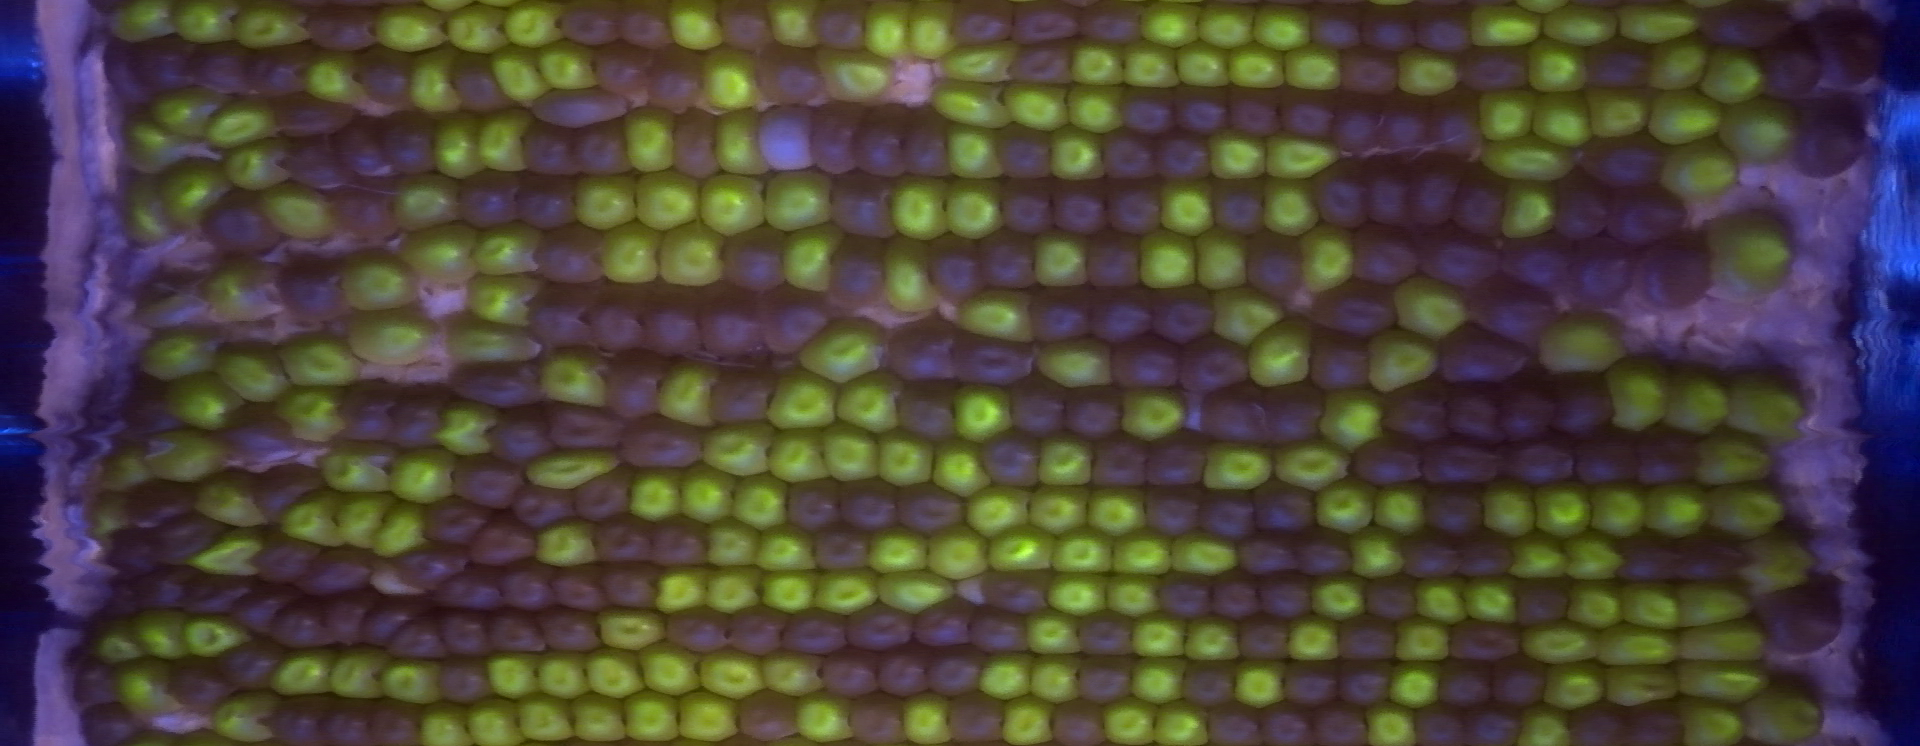fluorescent: (204, 250, 290, 334), (1708, 208, 1794, 289), (1540, 314, 1630, 372), (129, 269, 211, 332), (801, 318, 884, 377), (1723, 94, 1798, 159), (1251, 310, 1313, 388), (1393, 273, 1467, 338), (1365, 326, 1439, 390), (1727, 371, 1800, 435), (1604, 356, 1667, 431), (1662, 142, 1738, 200), (782, 220, 842, 293), (656, 358, 718, 426), (353, 311, 436, 361), (811, 44, 884, 100), (141, 430, 225, 479), (887, 234, 939, 312), (931, 37, 1016, 85), (833, 372, 905, 429), (951, 292, 1033, 341), (1320, 388, 1385, 450), (1662, 367, 1722, 434), (282, 334, 356, 387), (1652, 88, 1723, 142), (662, 219, 722, 283), (1749, 533, 1813, 592), (1211, 289, 1284, 341), (272, 388, 340, 443), (1264, 134, 1336, 185), (349, 249, 411, 307), (470, 271, 541, 322), (164, 383, 242, 430), (1709, 485, 1782, 535), (371, 2, 444, 51), (894, 174, 951, 236), (1740, 698, 1826, 740), (699, 176, 765, 230), (1487, 142, 1575, 183), (528, 451, 616, 491), (638, 171, 698, 230), (702, 45, 759, 107), (220, 342, 283, 397), (714, 107, 763, 176), (396, 233, 473, 277), (605, 219, 655, 287), (392, 450, 452, 506), (1035, 227, 1089, 289), (1141, 229, 1195, 292), (1120, 390, 1189, 439), (1531, 89, 1589, 146), (336, 490, 391, 550), (329, 644, 384, 704), (704, 424, 771, 473), (280, 495, 342, 549), (204, 98, 268, 149), (764, 171, 829, 222), (196, 478, 261, 528), (931, 85, 1007, 127), (942, 122, 1000, 178), (1703, 47, 1768, 96), (1528, 38, 1586, 93), (546, 348, 604, 403), (452, 318, 535, 356), (140, 330, 207, 376), (576, 176, 633, 230), (1040, 341, 1112, 383), (947, 184, 1005, 236), (700, 517, 759, 570), (1300, 225, 1352, 285), (953, 388, 1014, 439), (880, 430, 931, 491), (1693, 440, 1769, 480), (1589, 81, 1644, 136), (489, 50, 542, 107), (376, 495, 422, 560), (1261, 183, 1322, 232), (1209, 441, 1270, 490), (678, 470, 733, 524), (622, 114, 675, 170), (411, 47, 458, 110), (80, 490, 137, 541), (1469, 5, 1542, 45), (1277, 445, 1347, 486), (1040, 431, 1092, 486), (211, 690, 278, 733), (184, 612, 247, 658), (698, 652, 762, 697), (1542, 7, 1618, 45), (878, 572, 951, 611), (1397, 47, 1457, 94), (448, 6, 509, 53), (1160, 181, 1213, 234), (1321, 477, 1374, 530), (771, 380, 838, 423), (1538, 481, 1589, 537), (1685, 661, 1762, 698), (309, 50, 360, 104), (163, 163, 218, 213), (1618, 4, 1697, 38), (321, 452, 384, 495), (108, 2, 175, 43), (238, 6, 305, 47), (476, 228, 536, 273), (928, 530, 988, 576), (381, 660, 441, 706), (1479, 89, 1532, 141), (642, 646, 697, 695), (480, 114, 527, 171), (1685, 624, 1760, 659), (273, 648, 333, 692), (1510, 533, 1564, 582), (1485, 481, 1533, 537), (1171, 535, 1236, 576), (769, 439, 827, 484), (631, 469, 681, 521), (1500, 183, 1549, 235), (669, 2, 722, 50), (437, 108, 478, 171), (730, 477, 784, 524), (1566, 537, 1626, 579), (1649, 38, 1704, 85), (994, 530, 1052, 575), (1518, 624, 1589, 659), (1600, 626, 1671, 661), (628, 693, 678, 744), (1199, 230, 1242, 289), (1676, 588, 1742, 626), (1608, 663, 1674, 701), (1052, 127, 1098, 181), (1621, 582, 1675, 628), (538, 45, 593, 91), (116, 665, 171, 710), (190, 540, 262, 575), (1047, 572, 1104, 615), (1025, 612, 1082, 655), (827, 430, 876, 480), (1231, 660, 1282, 708), (1589, 488, 1642, 534), (1349, 530, 1402, 577), (969, 491, 1027, 533), (1547, 661, 1603, 704), (1687, 698, 1749, 737), (1201, 2, 1251, 50), (1071, 81, 1119, 131), (936, 443, 986, 491), (487, 653, 538, 701), (1005, 696, 1056, 744), (767, 5, 820, 49), (1311, 572, 1365, 616), (1648, 488, 1703, 530), (1286, 619, 1341, 661), (1209, 131, 1265, 173), (677, 697, 733, 739), (1393, 617, 1445, 663), (1144, 4, 1198, 47), (1056, 530, 1114, 570), (1251, 10, 1314, 47), (504, 5, 561, 45), (1090, 489, 1146, 529), (1070, 40, 1120, 86), (800, 695, 851, 739), (1029, 657, 1078, 702), (1232, 42, 1282, 86), (874, 527, 924, 571), (1008, 83, 1064, 122), (224, 146, 284, 183), (542, 521, 594, 563), (820, 567, 873, 609), (1111, 537, 1168, 575), (598, 615, 669, 646), (910, 9, 955, 56), (1129, 40, 1178, 85), (1416, 579, 1464, 624), (133, 610, 182, 654), (576, 698, 624, 742), (765, 570, 816, 612), (866, 5, 907, 56), (518, 701, 569, 742), (440, 398, 478, 454), (465, 706, 522, 744), (1131, 616, 1184, 657), (1365, 703, 1419, 742), (99, 447, 147, 491), (266, 186, 317, 227), (400, 171, 444, 218), (591, 650, 636, 697), (983, 650, 1027, 697), (174, 2, 231, 38), (1389, 664, 1438, 706), (1564, 586, 1619, 622), (1032, 491, 1084, 530), (1287, 48, 1340, 86), (1469, 578, 1513, 624), (540, 649, 584, 695), (906, 697, 950, 742), (767, 657, 818, 695), (1378, 485, 1424, 527), (122, 184, 163, 232), (1176, 44, 1226, 82), (654, 570, 704, 608), (1160, 704, 1210, 742), (1102, 706, 1153, 742), (709, 570, 754, 611), (1187, 626, 1239, 661), (758, 534, 809, 570), (153, 89, 200, 129), (1109, 572, 1157, 610), (127, 114, 171, 154), (421, 702, 463, 744), (1522, 708, 1570, 744), (1135, 665, 1180, 699), (97, 626, 135, 661)
nonfluorescent: (1753, 577, 1850, 655), (1813, 1, 1891, 96), (1791, 89, 1869, 180), (1466, 274, 1553, 347), (1413, 222, 1504, 289), (520, 78, 632, 132), (1578, 127, 1669, 194), (1640, 233, 1713, 314), (644, 271, 708, 364), (1434, 318, 1532, 379), (823, 170, 904, 243), (276, 250, 350, 327), (882, 311, 956, 388), (208, 187, 287, 261), (1696, 1, 1801, 55), (1630, 419, 1712, 488), (850, 94, 913, 183), (709, 358, 782, 432), (337, 372, 409, 448), (527, 281, 596, 359), (1308, 279, 1401, 337), (1177, 333, 1258, 399), (718, 222, 790, 295), (760, 282, 831, 356), (222, 394, 301, 461), (1607, 183, 1687, 247), (1566, 239, 1637, 312), (927, 224, 987, 311), (1240, 229, 1310, 304), (1502, 227, 1577, 296), (700, 283, 767, 361), (1760, 21, 1820, 107), (329, 176, 400, 249), (1548, 369, 1618, 442), (1198, 380, 1272, 448), (448, 360, 550, 410), (1493, 372, 1558, 451), (1453, 159, 1513, 244), (1300, 321, 1371, 392), (593, 281, 658, 358), (271, 131, 353, 191), (1309, 158, 1373, 235), (1380, 381, 1452, 448), (1329, 85, 1393, 159), (1407, 152, 1463, 238), (1502, 431, 1580, 494), (891, 473, 970, 534), (1103, 330, 1178, 393), (618, 415, 704, 470), (758, 99, 818, 178), (189, 31, 256, 100), (978, 424, 1044, 495), (511, 170, 584, 234), (842, 599, 922, 658), (804, 94, 862, 175), (1362, 152, 1419, 233), (1430, 85, 1490, 160), (754, 38, 822, 105), (454, 165, 522, 233), (531, 220, 602, 284), (378, 104, 436, 183), (602, 348, 664, 421), (827, 232, 880, 315), (1349, 232, 1424, 292), (1086, 283, 1158, 344), (666, 104, 722, 183), (257, 458, 323, 524), (114, 371, 178, 440), (1149, 284, 1221, 344), (1247, 474, 1319, 534), (958, 328, 1031, 387), (268, 88, 354, 138), (1080, 230, 1147, 294), (900, 99, 951, 183), (1209, 171, 1271, 240), (1264, 381, 1326, 450), (389, 380, 451, 450), (1682, 523, 1752, 584), (940, 1, 1021, 54), (1614, 529, 1691, 584), (1349, 434, 1428, 488), (840, 473, 901, 541), (978, 225, 1037, 296), (572, 115, 634, 181), (992, 120, 1058, 183), (1007, 372, 1068, 440), (1556, 168, 1611, 243), (1583, 32, 1652, 92), (648, 43, 702, 119), (447, 451, 524, 503), (1007, 1, 1087, 51), (1577, 425, 1642, 488), (591, 40, 651, 108), (890, 380, 958, 440), (722, 600, 791, 659), (588, 514, 662, 568), (1169, 81, 1239, 138), (1151, 134, 1221, 191), (98, 34, 152, 108), (573, 463, 632, 530), (487, 412, 556, 469), (940, 688, 1009, 746), (713, 1, 782, 58), (138, 29, 193, 100), (996, 176, 1058, 239), (1101, 180, 1167, 239), (1457, 42, 1531, 94), (1378, 91, 1433, 160), (389, 543, 464, 594), (1118, 81, 1180, 142), (736, 684, 797, 746), (1147, 428, 1211, 488), (660, 601, 732, 654), (1420, 441, 1506, 485), (1441, 612, 1522, 659), (781, 474, 842, 535), (518, 122, 580, 183), (1047, 179, 1109, 239), (1030, 287, 1093, 345), (1142, 484, 1207, 541), (451, 51, 507, 118), (306, 1, 382, 50), (1002, 40, 1079, 88), (250, 45, 312, 104), (1091, 430, 1150, 492), (353, 44, 410, 108), (1330, 47, 1402, 97), (977, 568, 1049, 619), (342, 108, 389, 184), (249, 534, 324, 582), (362, 692, 431, 745), (126, 477, 200, 526), (643, 514, 704, 573), (778, 604, 849, 654), (1060, 388, 1127, 442), (550, 405, 622, 454), (78, 699, 154, 746), (1362, 1, 1423, 59), (1294, 522, 1356, 579), (1414, 2, 1477, 59), (469, 522, 542, 570), (1071, 605, 1138, 658), (1619, 695, 1686, 746), (1449, 390, 1507, 448), (1194, 484, 1254, 541), (1302, 698, 1374, 746), (1097, 129, 1158, 185), (171, 658, 240, 708), (1076, 1, 1150, 48), (1156, 572, 1222, 624), (844, 690, 904, 746), (1457, 526, 1518, 581), (294, 555, 377, 595), (1422, 488, 1490, 537), (1272, 87, 1336, 140), (358, 593, 424, 643), (433, 565, 500, 615), (1308, 1, 1369, 55), (269, 594, 327, 650), (1438, 654, 1496, 709), (1397, 526, 1457, 579), (811, 1, 872, 54), (421, 500, 489, 548), (540, 604, 607, 652), (1340, 658, 1403, 708), (1178, 660, 1247, 707), (1233, 78, 1282, 143), (920, 592, 973, 650), (1073, 657, 1131, 710), (964, 612, 1033, 658), (1048, 695, 1109, 746), (560, 1, 622, 51), (1236, 526, 1299, 575), (271, 691, 327, 746), (107, 522, 160, 579), (1494, 657, 1554, 708), (507, 483, 574, 528), (140, 562, 204, 609), (1561, 701, 1627, 746), (493, 563, 557, 610), (108, 245, 159, 303), (1360, 572, 1419, 622), (482, 612, 542, 661), (1513, 579, 1573, 628), (220, 639, 282, 687), (156, 518, 228, 559), (1406, 703, 1473, 746), (807, 527, 872, 571), (182, 570, 250, 611), (542, 567, 607, 610), (1460, 703, 1524, 746), (1278, 659, 1340, 704), (1333, 619, 1400, 660), (323, 590, 371, 648), (324, 688, 372, 746), (231, 582, 284, 633), (618, 1, 672, 51), (877, 649, 931, 699), (1232, 619, 1293, 663), (927, 650, 983, 698), (820, 652, 877, 699), (1202, 701, 1261, 746), (1251, 702, 1311, 746), (1258, 573, 1313, 621), (433, 659, 491, 704), (69, 655, 120, 706), (1213, 571, 1262, 624), (437, 608, 491, 655), (602, 565, 654, 612), (388, 619, 444, 660), (103, 572, 147, 612)
